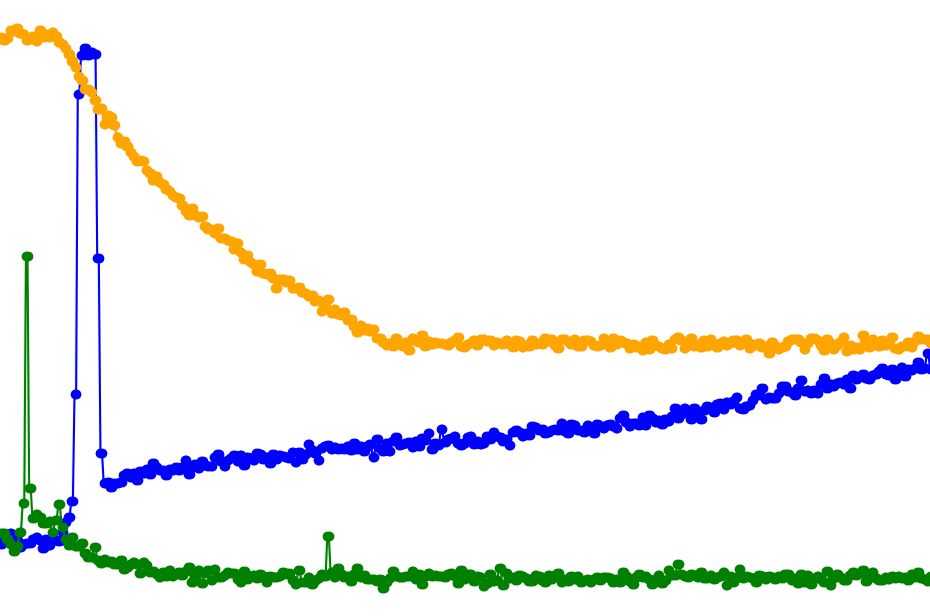Condensation (CO2): (77, 0, 116, 616)
Normal: (116, 0, 930, 616), (0, 0, 116, 616)
O2 Problem: (388, 0, 930, 616)
